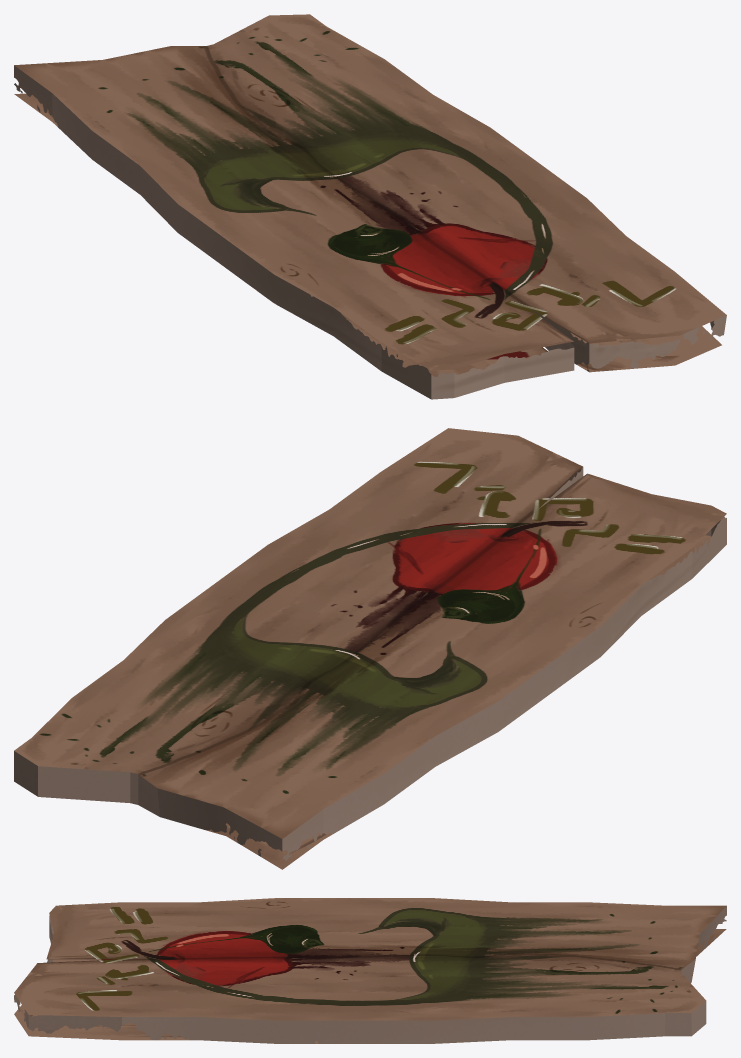
File: WoodenPOSTERattempt2.fbx
3 renders of one model, top to bottom at view 1: azimuth 30°, elevation 25°; view 2: azimuth 150°, elevation 25°; view 3: azimuth 270°, elevation 25°, orthographic. The views are drawn at different scales.
Visible parts, largest first — view 1: Box001; view 2: Box001; view 3: Box001.
Part boxes in pixels (left/top/right/bottom): Box001: left=14, top=14, right=726, bottom=399; Box001: left=14, top=428, right=726, bottom=869; Box001: left=14, top=898, right=726, bottom=1043.
Bounding box in the file's own units: 56.64 × 5 × 139.
1 material, 1 textured.
